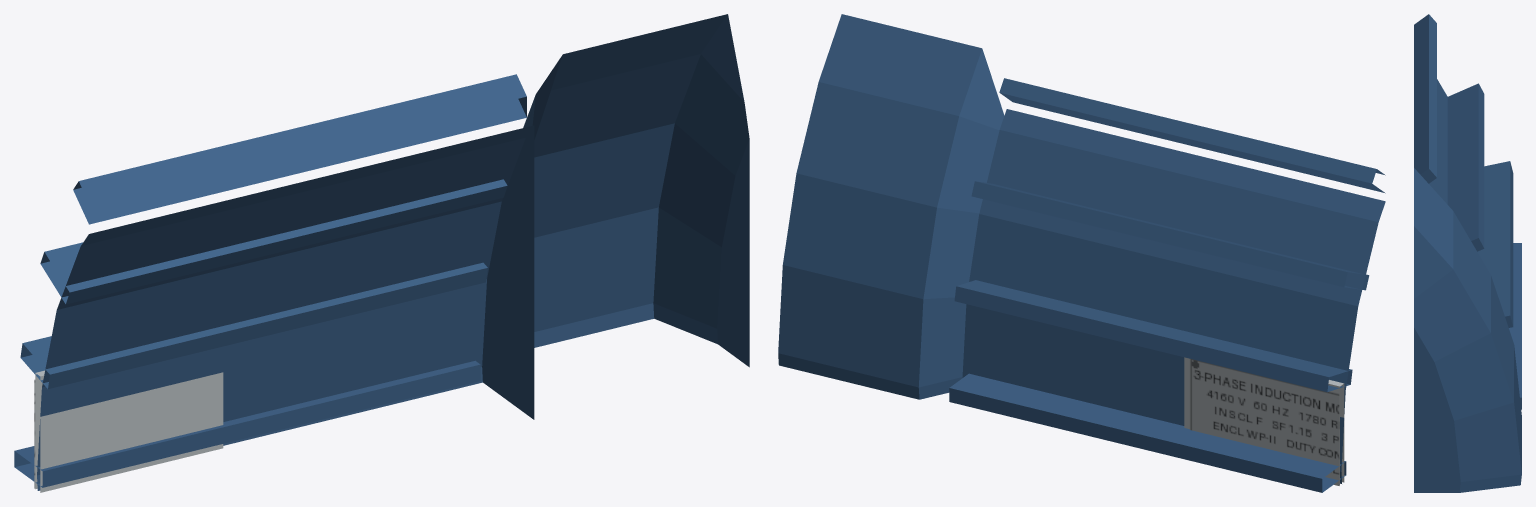
File: cell_27.obj
3 views of the same model, side by side, from view 1: azimuth 30°, elevation 25°; view 2: azimuth 150°, elevation 25°; view 3: azimuth 270°, elevation 25° (orthographic). The views are drawn at different scales.
Bounding box in the file's own units: 0.92 × 0.4775 × 0.18.
